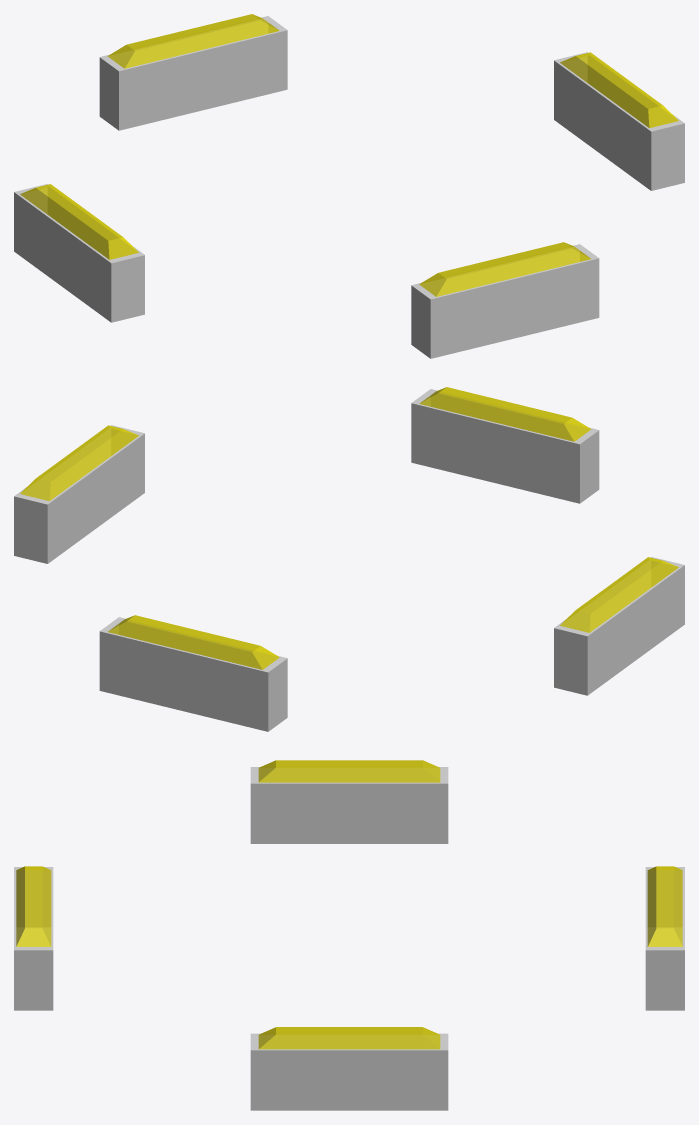
File: PieceSoutien.fbx
3 views of the same model, one above another, from view 1: azimuth 30°, elevation 25°; view 2: azimuth 150°, elevation 25°; view 3: azimuth 270°, elevation 25° (orthographic).
Visible parts, largest first — view 1: GemmeSoutien; view 2: GemmeSoutien; view 3: GemmeSoutien.
Boxes of the visible parts, box(x1,y1,x2,y2) form: GemmeSoutien: box(14, 14, 684, 358); GemmeSoutien: box(14, 387, 684, 731); GemmeSoutien: box(14, 760, 684, 1110).
Bounding box in the file's own units: 1.7 × 1.7 × 0.2.
